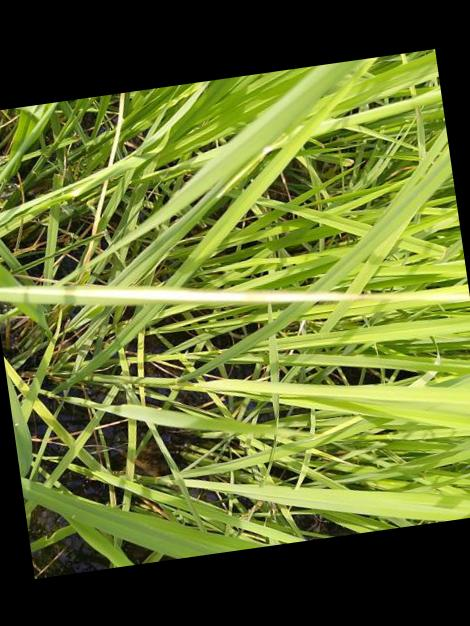Leaf Blight: (0, 284, 379, 303)
